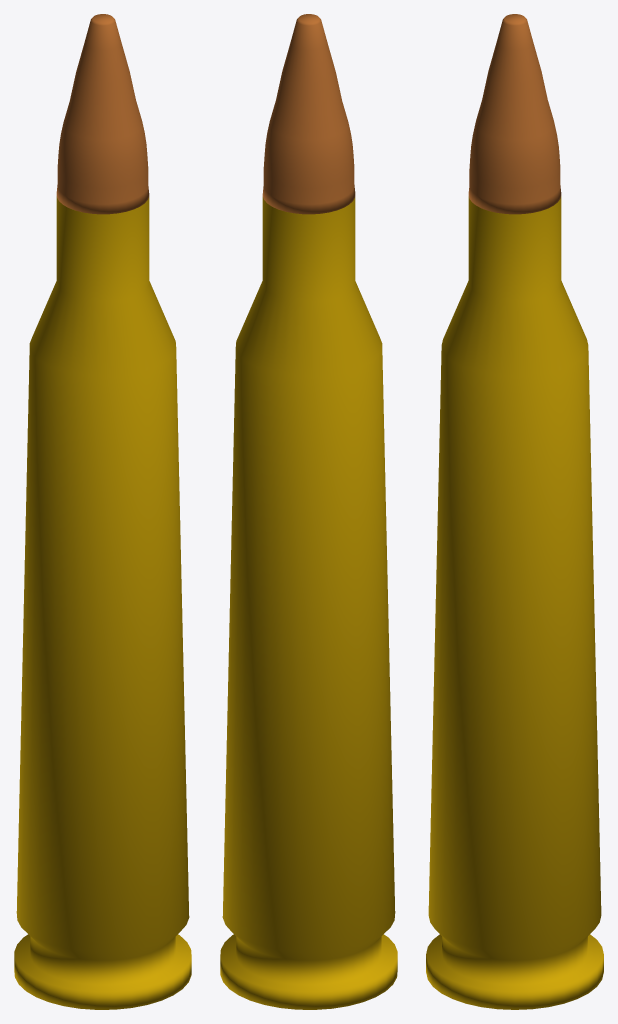
The model's file is طلقة.glb.
The picture shows the model from 3 angles, left to right: view 1: azimuth 30°, elevation 25°; view 2: azimuth 150°, elevation 25°; view 3: azimuth 270°, elevation 25°; orthographic projection.
Visible parts, largest first — view 1: Circle.001; view 2: Circle.001; view 3: Circle.001.
Part boxes in pixels (x1=…): Circle.001: x1=14, y1=14, x2=191, y2=1009; Circle.001: x1=220, y1=14, x2=397, y2=1009; Circle.001: x1=426, y1=14, x2=603, y2=1009.
Bounding box in the file's own units: 0.6623 × 3.93 × 0.6623.
